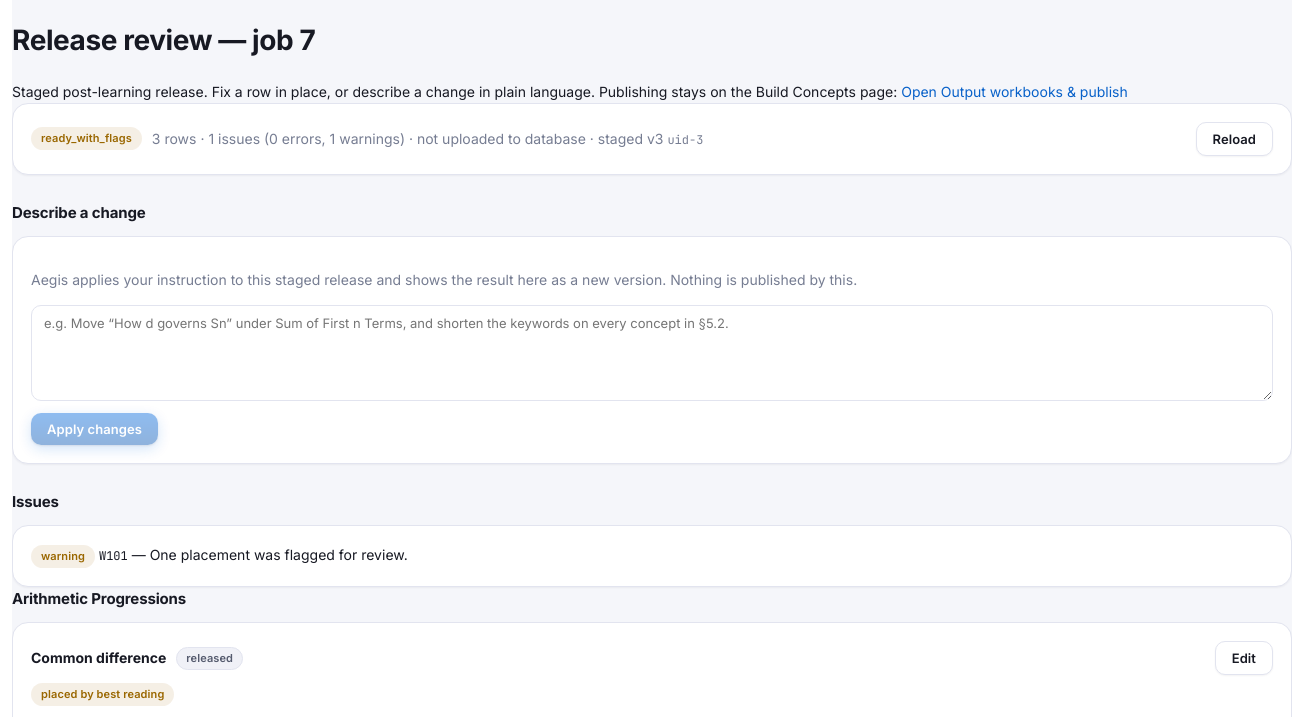
Test case: instruction flow posts against the staged uid and clears the box on success
Replace the text in the text box with test id "instruction-box" with "Move General term under Sum of First n Terms." at coordinates (652, 352), box [31,304,1273,400]
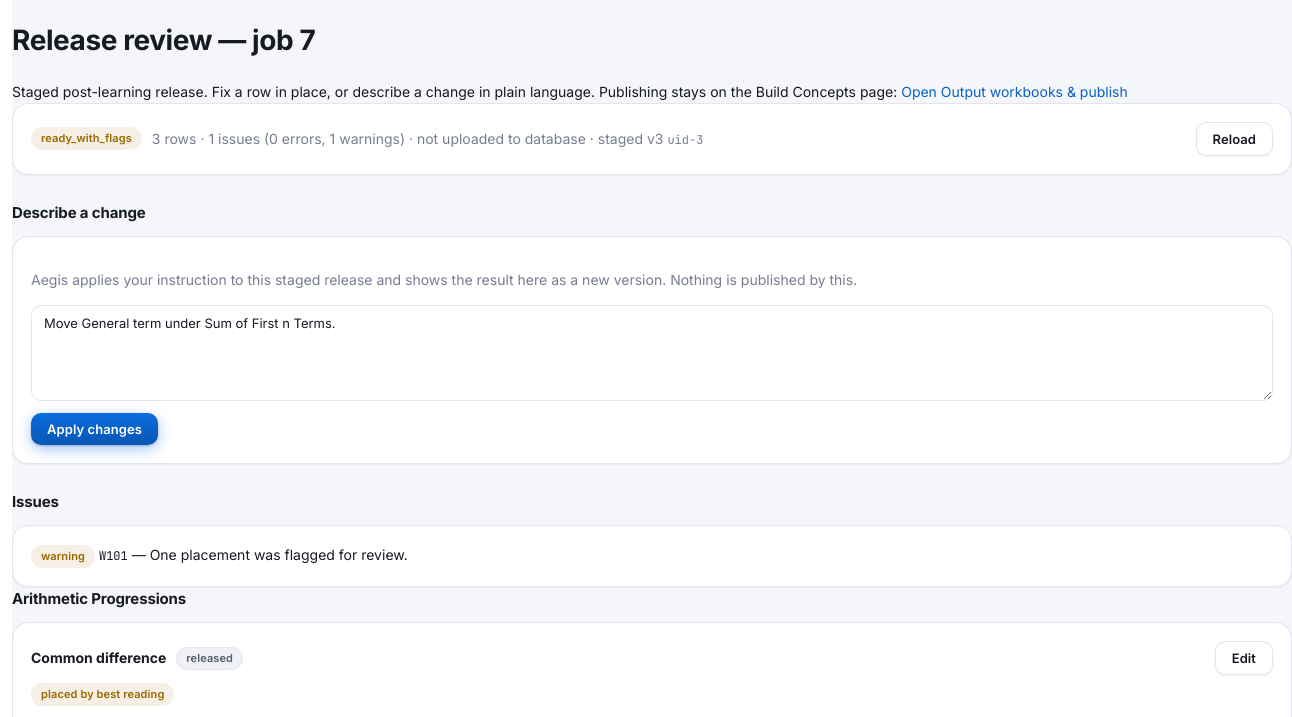
Click the button with test id "apply-instruction" at coordinates (94, 428), box [31,412,158,444]
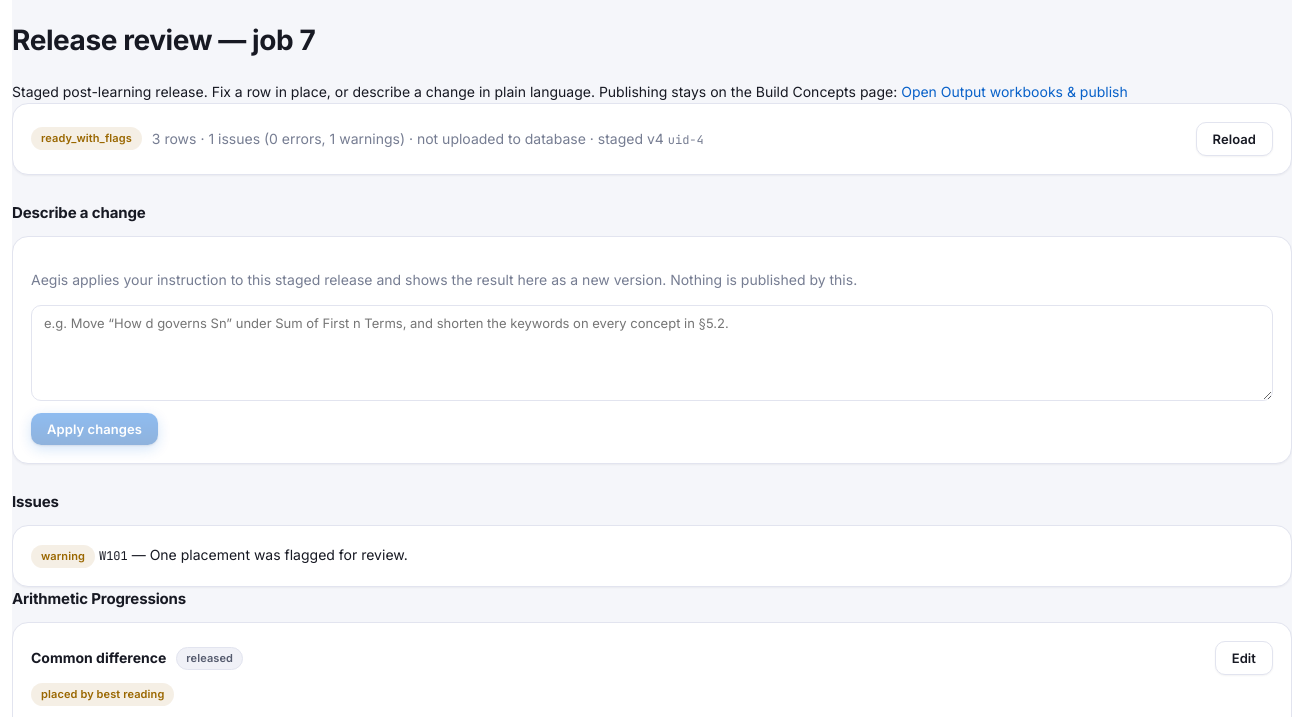
Expected: the text box with test id "instruction-box" is empty, [31,304,1273,400]
Expected: the element with test id "review-summary" shows "v4", [152,128,704,149]
